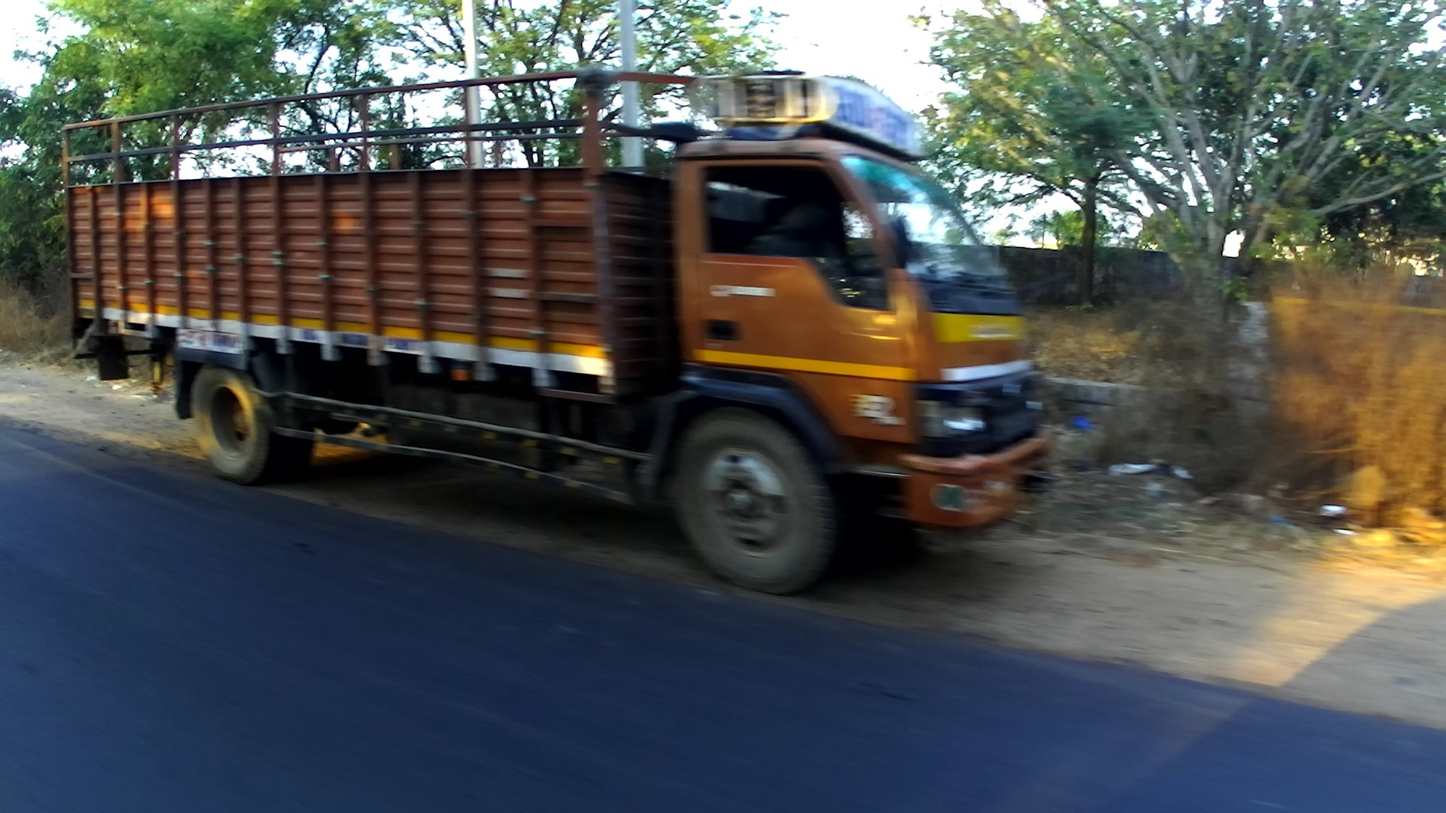truck: (59, 69, 1052, 609)
